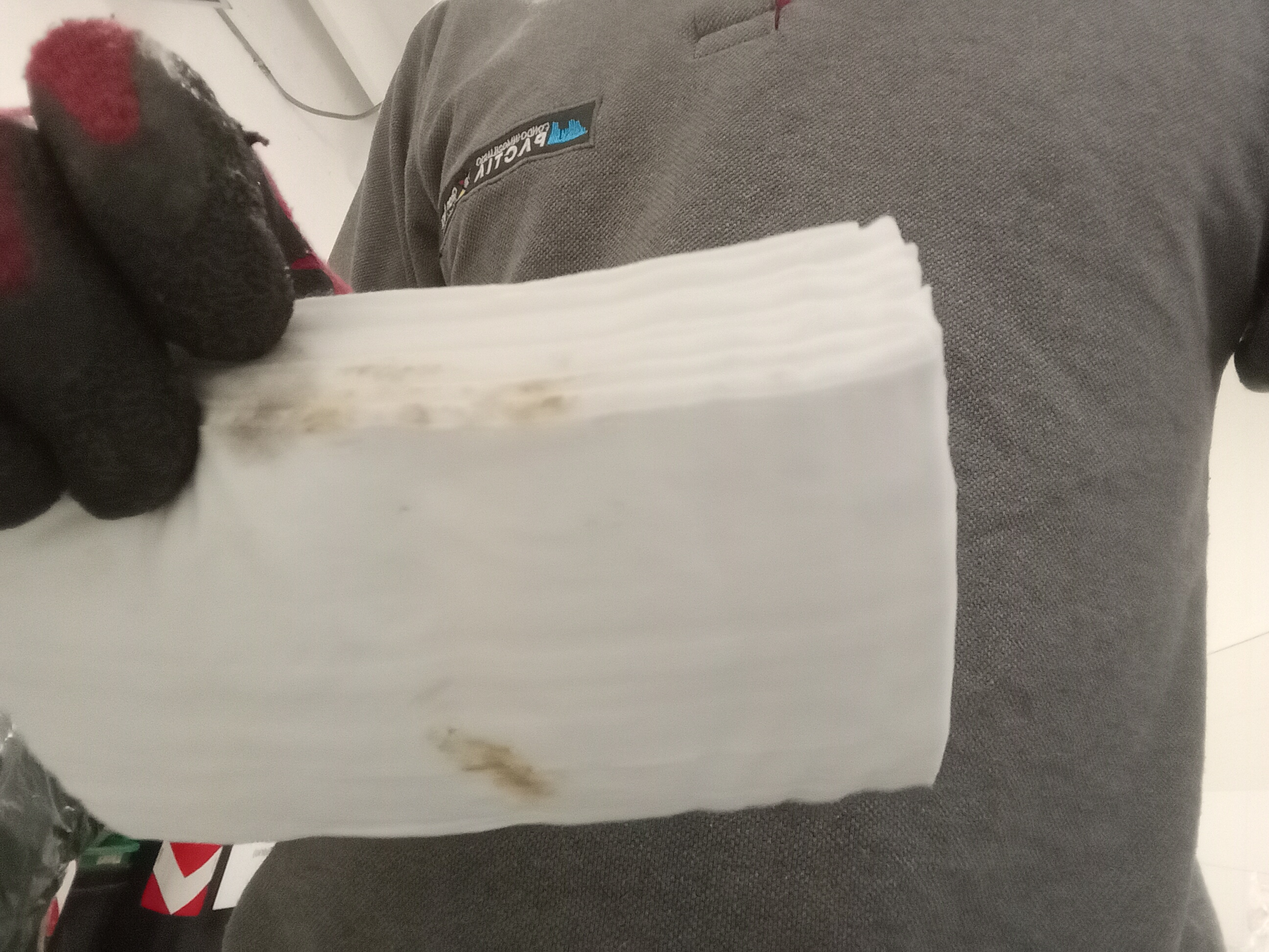Ordinario: (0, 212, 958, 840)
